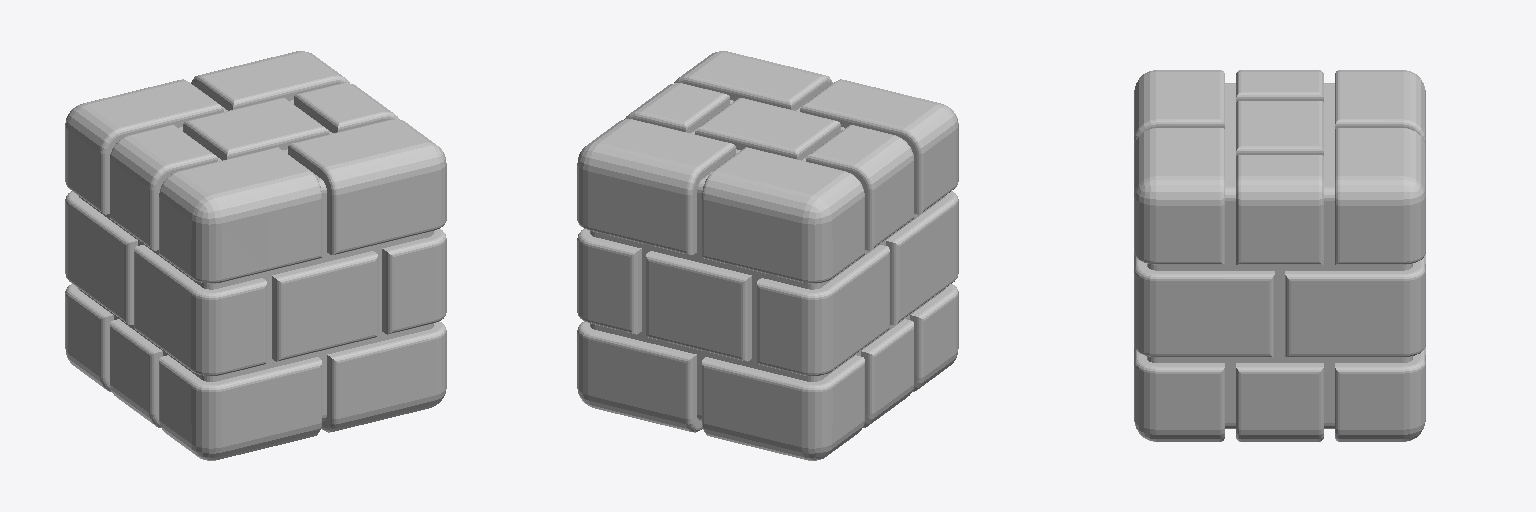
File: brick.obj
3 renders of one model, left to right at view 1: azimuth 30°, elevation 25°; view 2: azimuth 150°, elevation 25°; view 3: azimuth 270°, elevation 25°, orthographic.
Parts seen in each view (by area): view 1: BrickBlock_Cube.001; view 2: BrickBlock_Cube.001; view 3: BrickBlock_Cube.001.
Part boxes in pixels (left/top/right/bottom): BrickBlock_Cube.001: left=65, top=51, right=446, bottom=460; BrickBlock_Cube.001: left=577, top=51, right=958, bottom=460; BrickBlock_Cube.001: left=1134, top=70, right=1425, bottom=441.
Bounding box in the file's own units: 2.2 × 2.2 × 2.2.